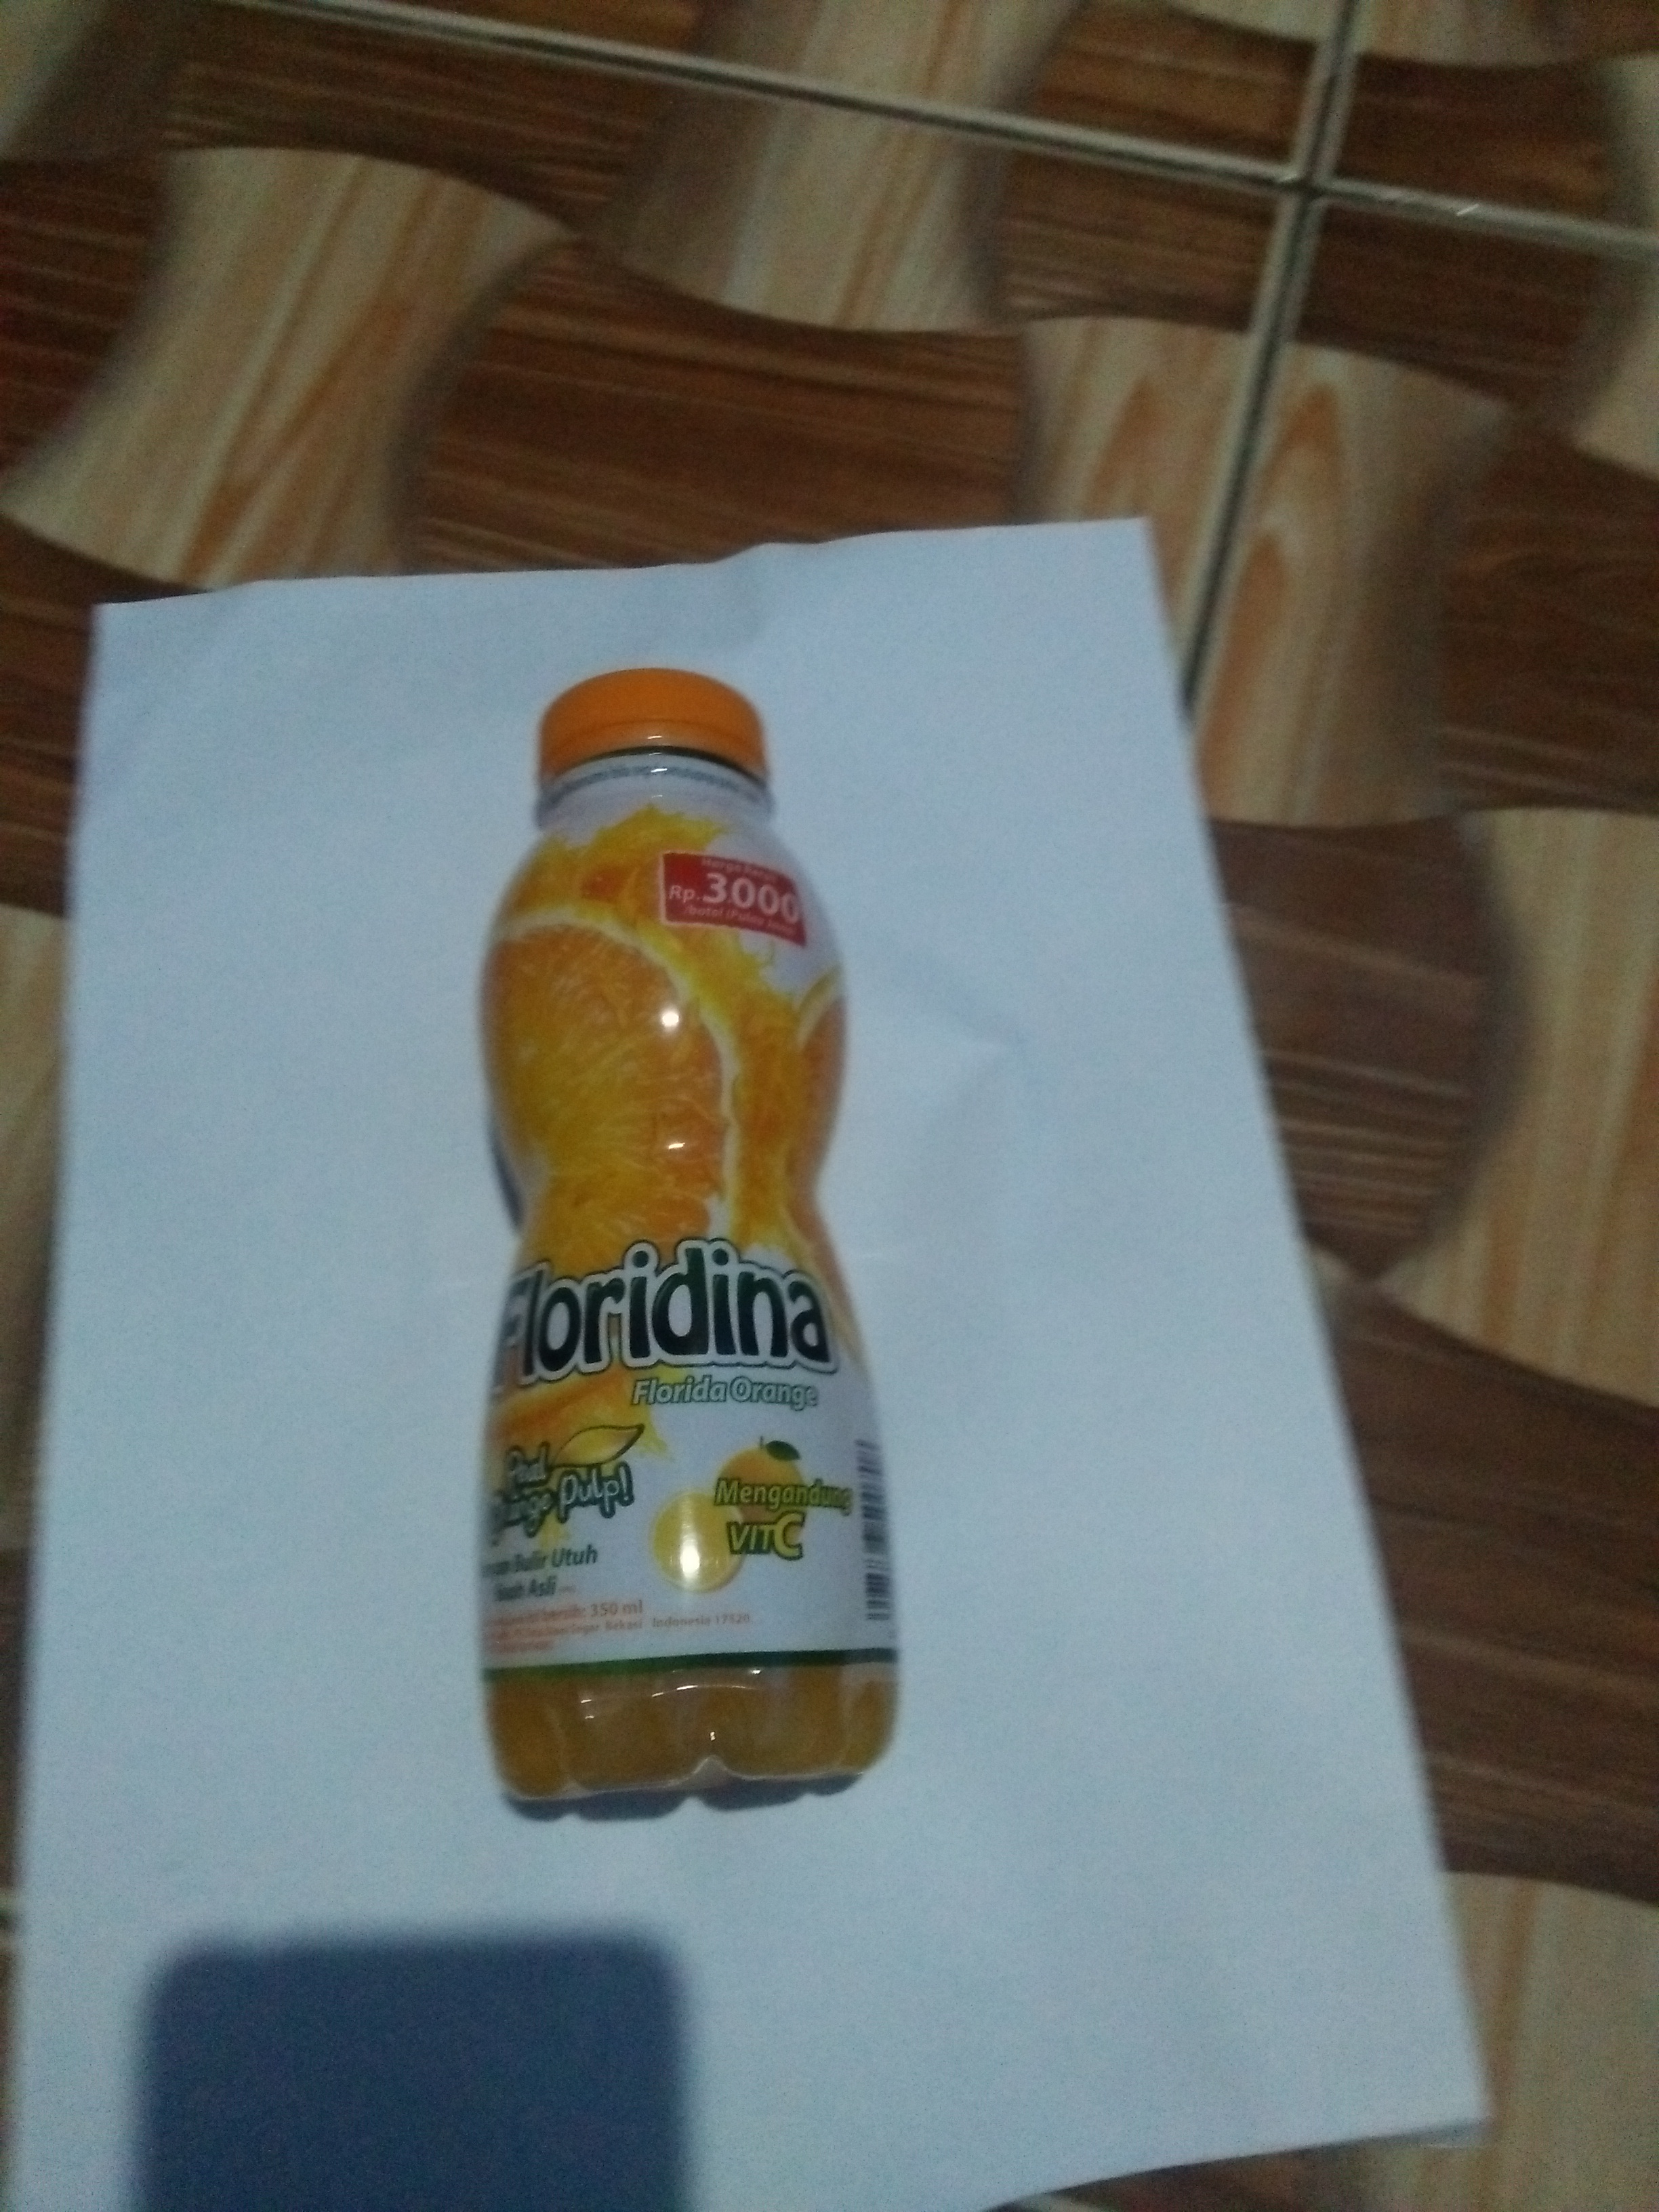Floridina: (457, 664, 938, 1825)
